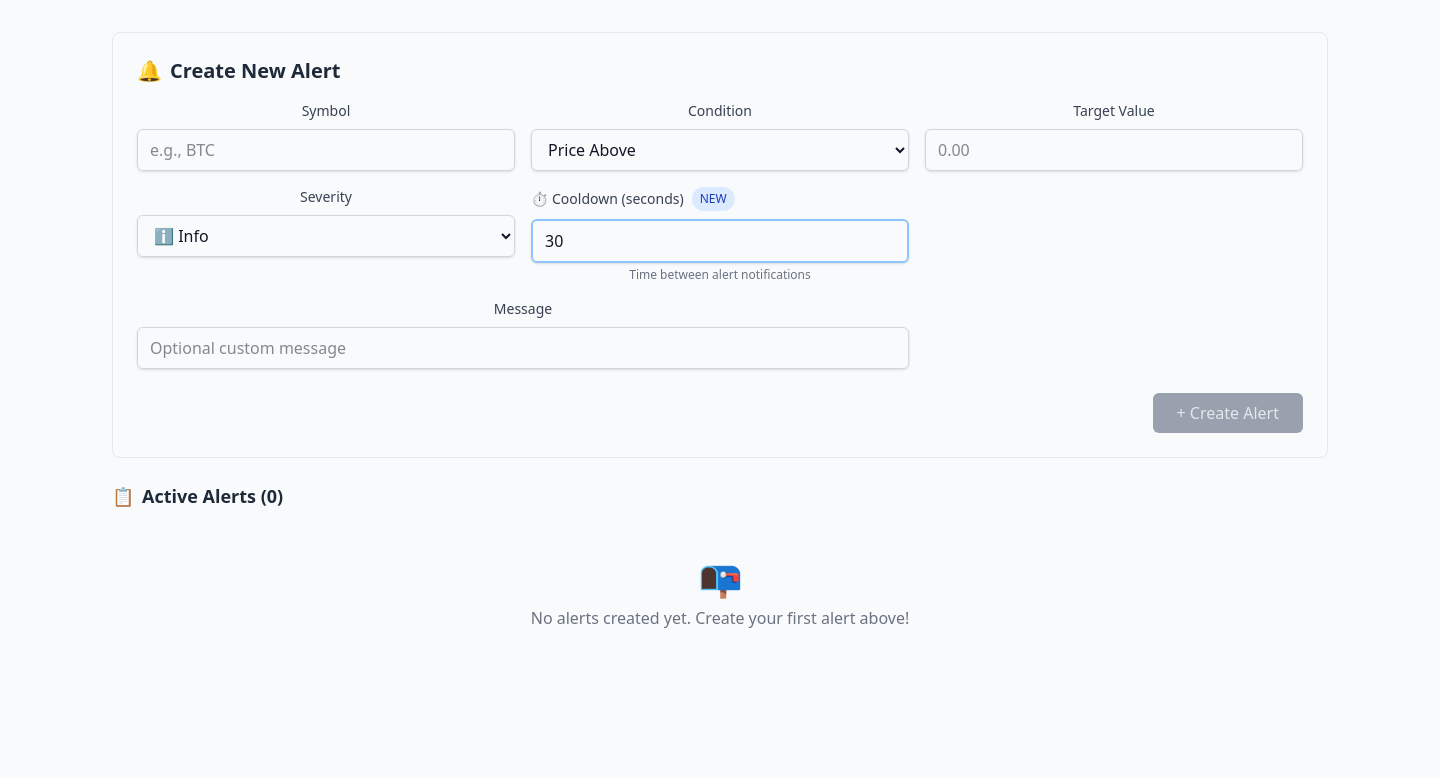
Scenario: AlertManager › allows dismissing (deleting) an alert
In the field named "symbol": [326, 150] box [137,129,515,171], type "ETH"
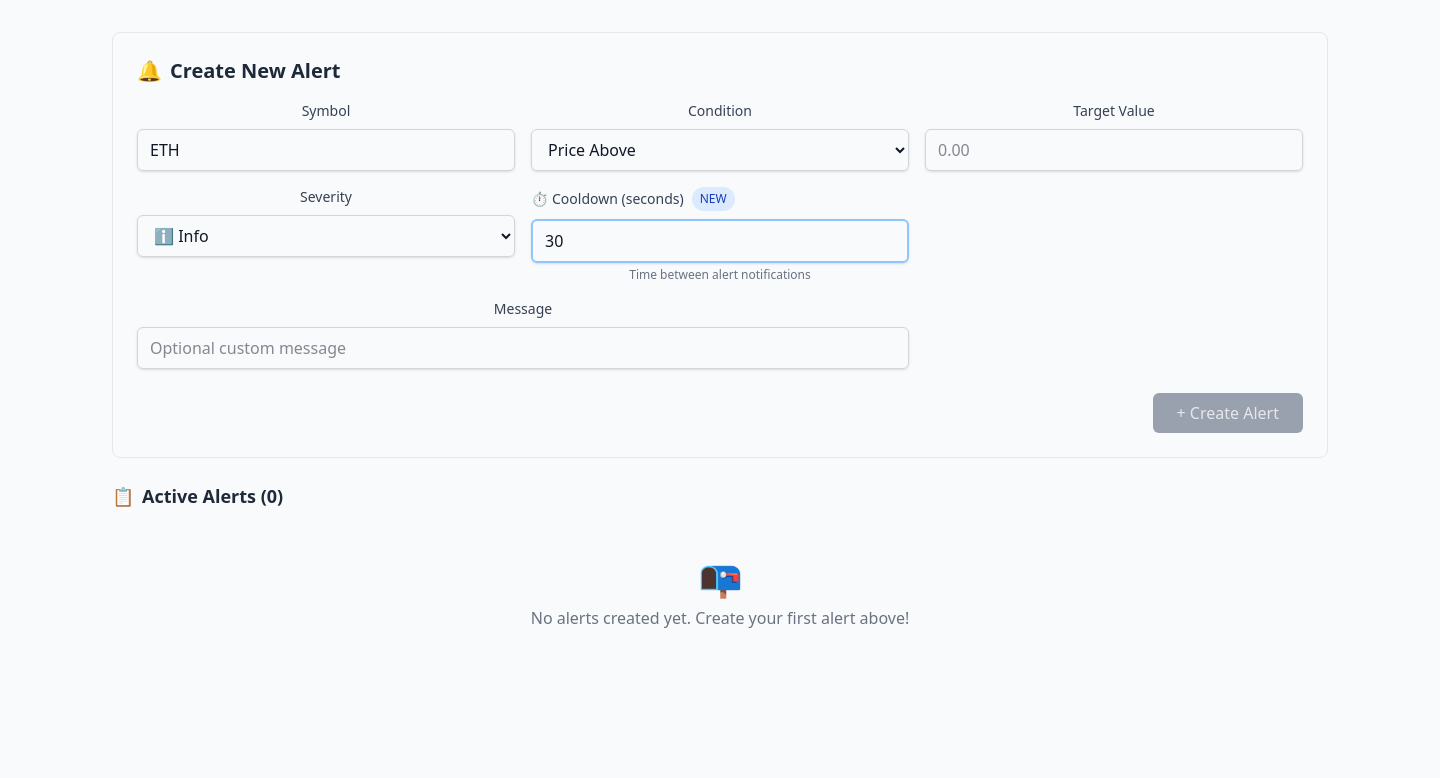
In the number field named "target value": [1114, 150] box [925,129,1303,171], type "3000"
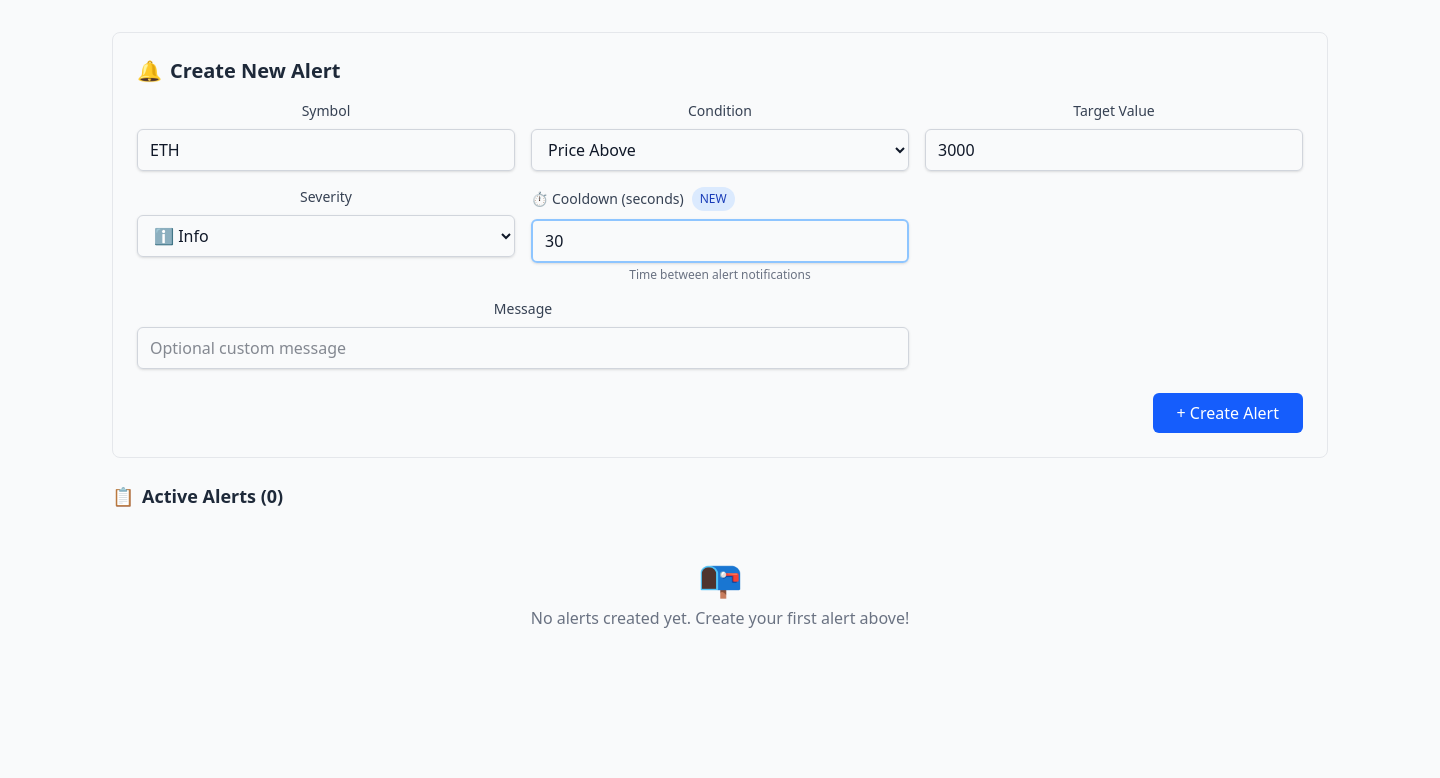
Click the button "+ Create Alert": [1228, 413] box [1153,393,1303,433]
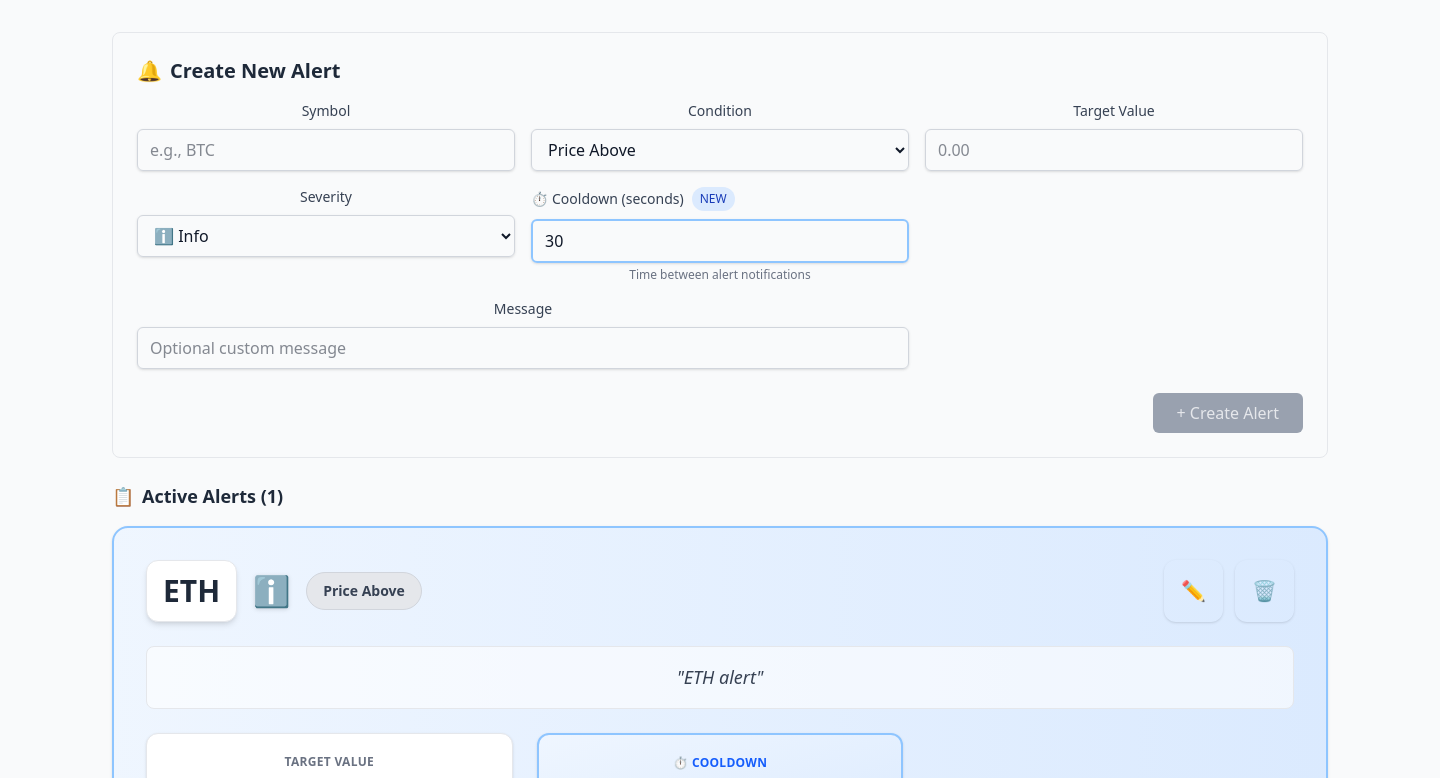
Result: the button named "delete alert" is shown
Click the button named "delete alert": [1264, 591] box [1235,560,1294,622]
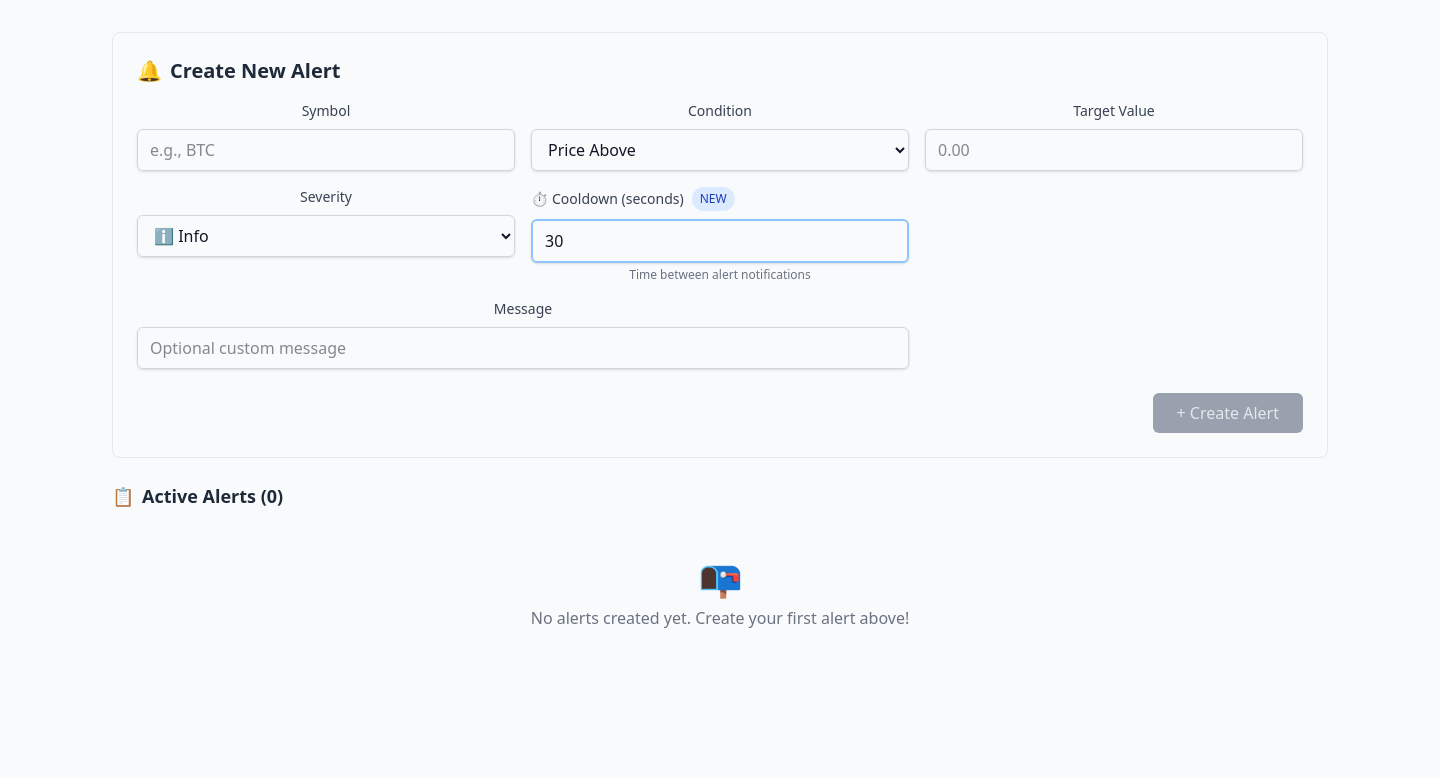
Result: the text "ETH" is gone
